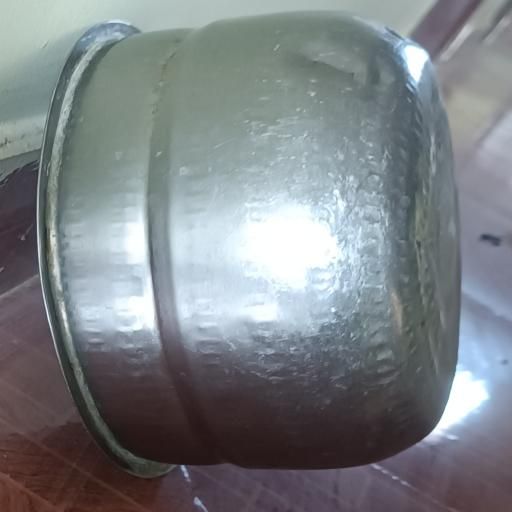vessel: (39, 13, 459, 476)
